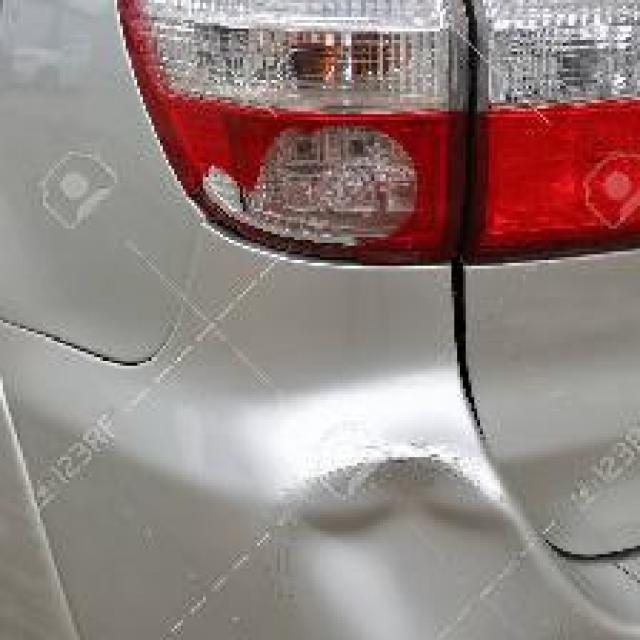damaged: (277, 448, 572, 638)
